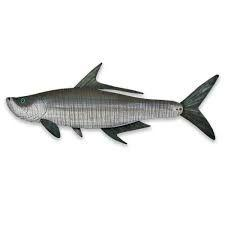Tenpounder: (6, 61, 220, 148)
